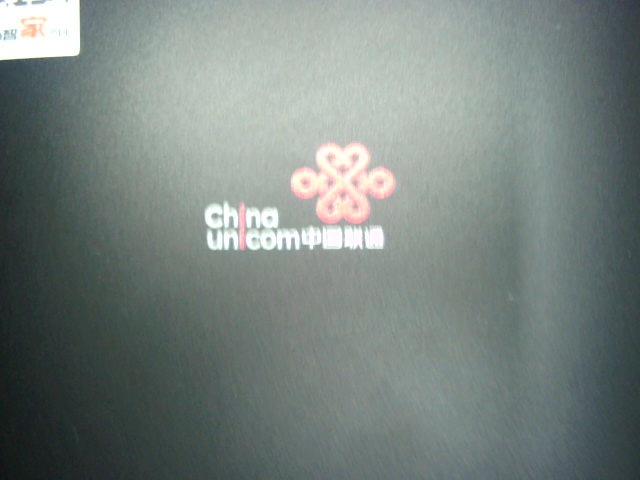AC_ChinaUnicom: (195, 140, 395, 256)
